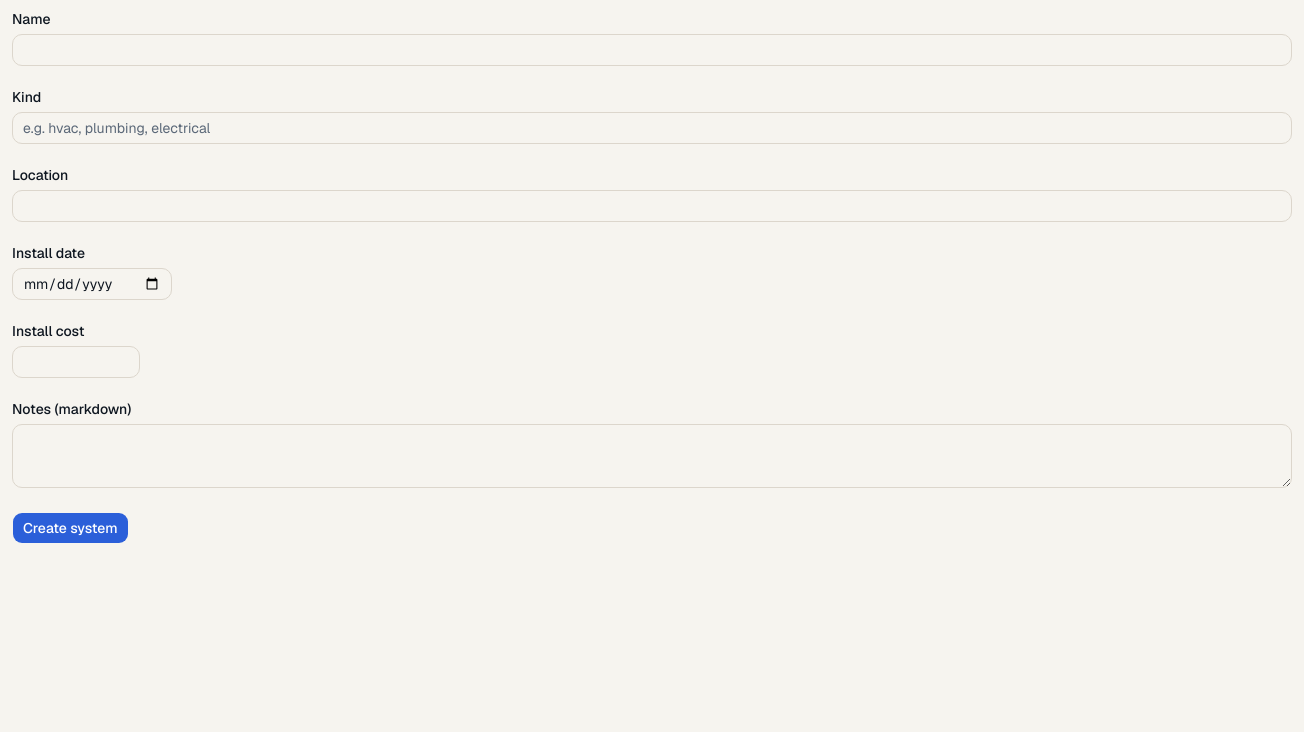
Scenario: SystemForm › surfaces server formError on the form
The width and height of the screenshot is (1304, 732).
Step 1. Type "X" into the field labelled "Name" → (652, 50), box 12,34 -> 1292,66
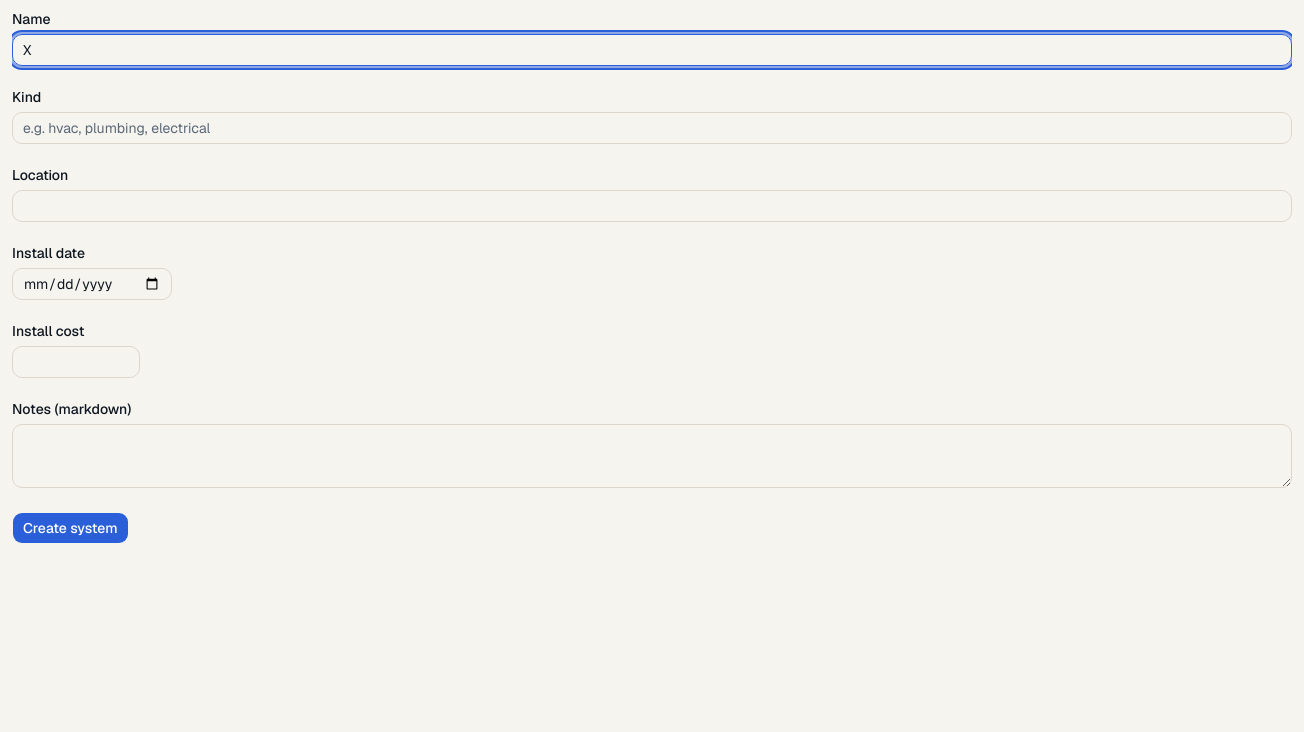
Step 2. Click the button "Create system" → (70, 528), box 12,512 -> 129,544
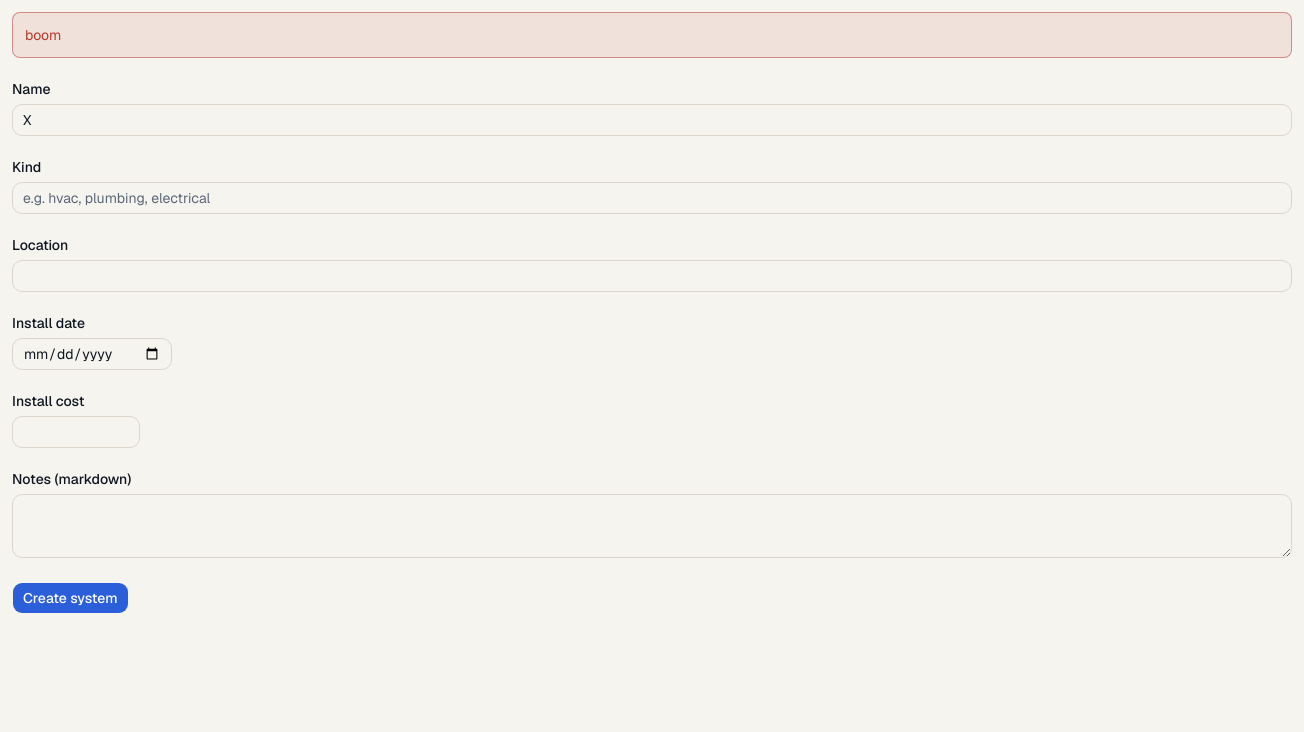
Now the text "boom" is shown, box 12,12 -> 1292,58
